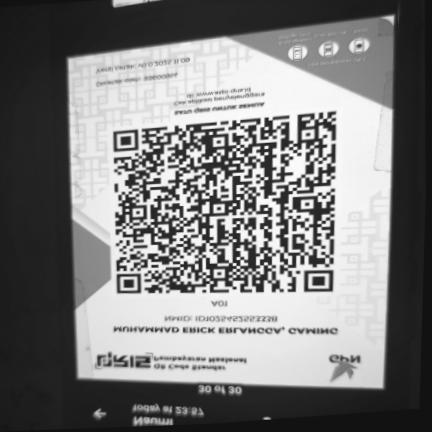Cara Pakai QRIS: (273, 17, 390, 76)
Cek Aplikasi Penyelenggara: (168, 82, 270, 109)
Dicetak Oleh: (93, 69, 184, 90)
Logo GPN: (318, 349, 372, 385)
Logo dan deskripsi QRIS: (87, 347, 265, 380)
Nama Merchant: (108, 324, 349, 338)
National Merchant ID: (157, 312, 287, 324)
QR Code: (108, 107, 344, 296)
Slogan: (167, 100, 270, 120)
Terminal ID: (206, 298, 234, 308)
Versi Cetak: (94, 53, 196, 77)
